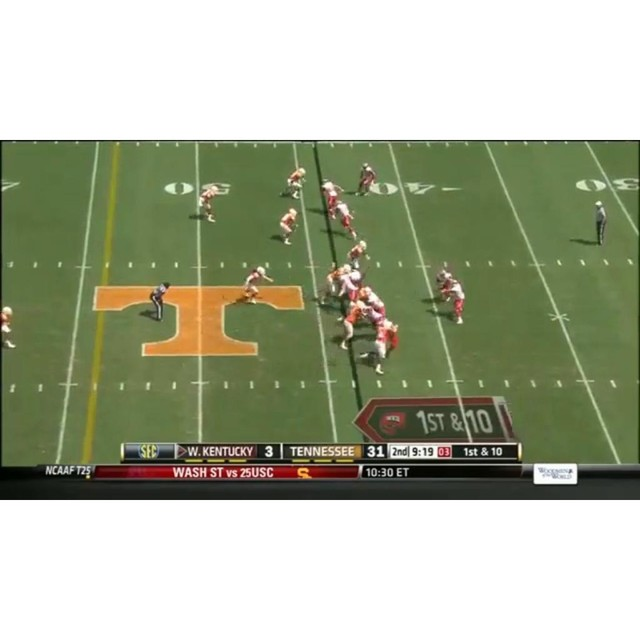american-football-player: (359, 322, 391, 375), (335, 299, 367, 350), (314, 262, 347, 305), (239, 265, 273, 304), (189, 184, 220, 223), (336, 269, 362, 314), (278, 167, 308, 199), (275, 208, 300, 245), (320, 178, 342, 219), (447, 278, 466, 325), (336, 201, 358, 239), (355, 162, 378, 197), (436, 261, 454, 303), (348, 239, 370, 271), (0, 305, 15, 349)
referee: (149, 281, 170, 322), (593, 201, 608, 246)
